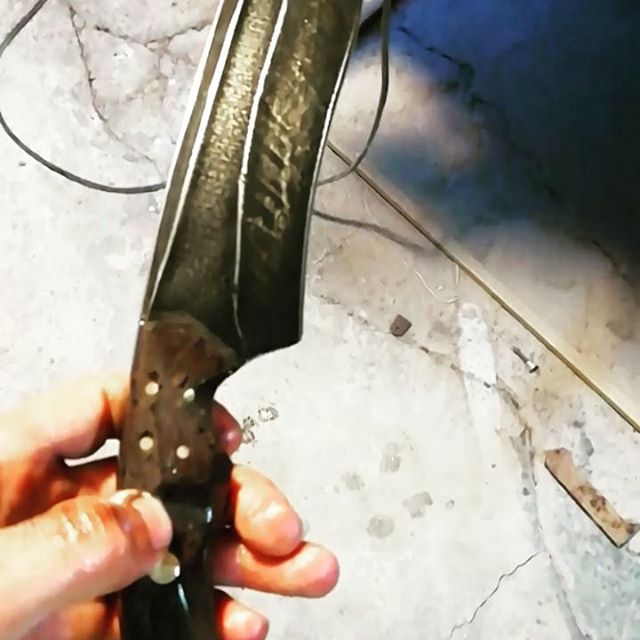knife: (120, 1, 363, 639)
